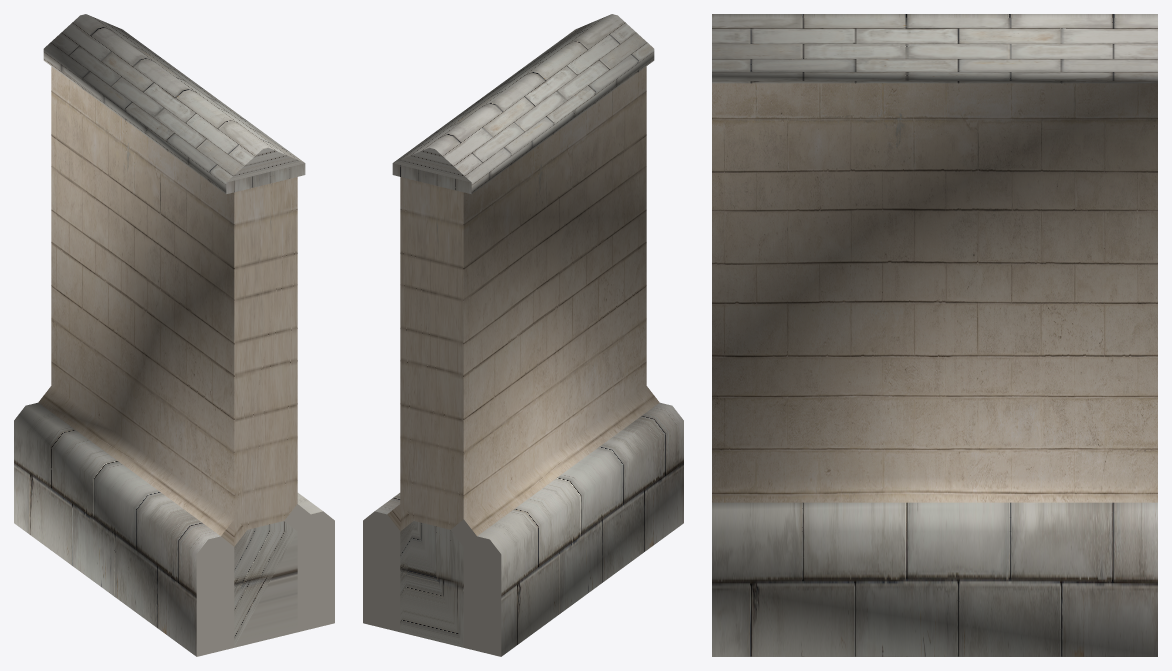
The model's file is ManorWall.fbx.
3 renders of one model, left to right at view 1: azimuth 30°, elevation 25°; view 2: azimuth 150°, elevation 25°; view 3: azimuth 270°, elevation 25°, orthographic. The views are drawn at different scales.
Parts seen in each view (by area): view 1: Cube.009; view 2: Cube.009; view 3: Cube.009.
Part boxes in pixels (x1,y1,x2,y2): Cube.009: [14, 14, 334, 656]; Cube.009: [363, 14, 683, 656]; Cube.009: [712, 14, 1157, 656].
Bounding box in the file's own units: 117 × 398 × 268.
Materials: 2 (2 with a texture image).
